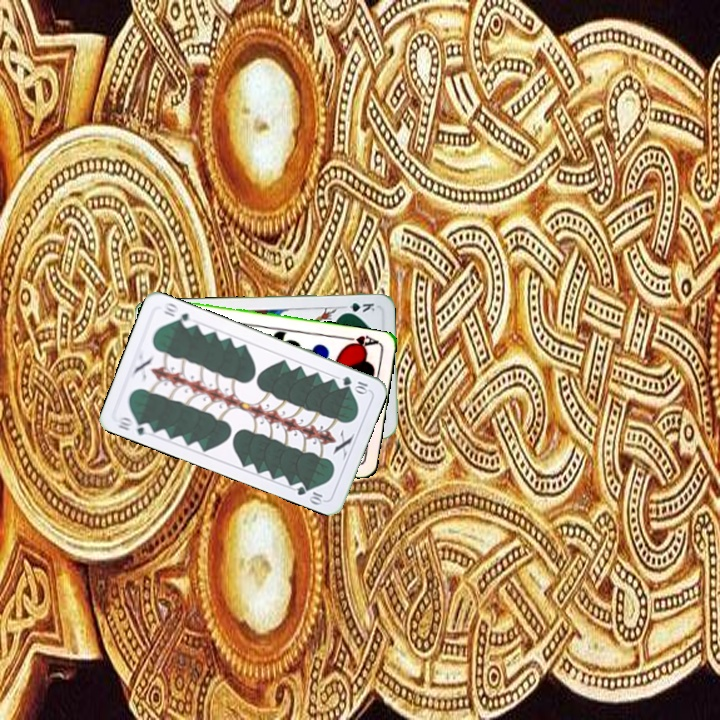G10: (113, 412, 154, 438), (338, 372, 372, 396)
GK: (338, 299, 377, 316)
HA: (340, 331, 381, 352)
